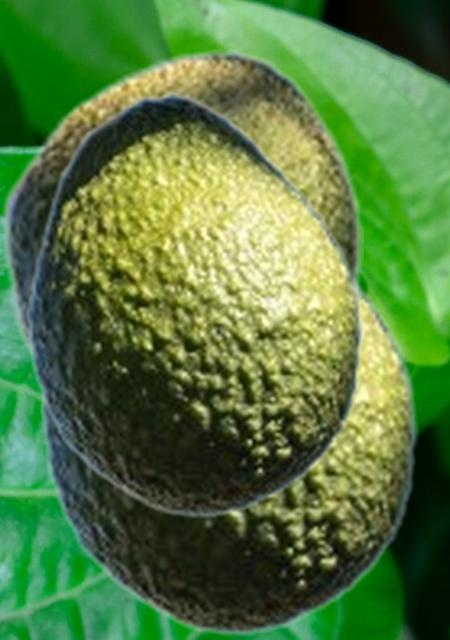avocado: (23, 92, 363, 518), (37, 278, 417, 636), (0, 49, 362, 373)
